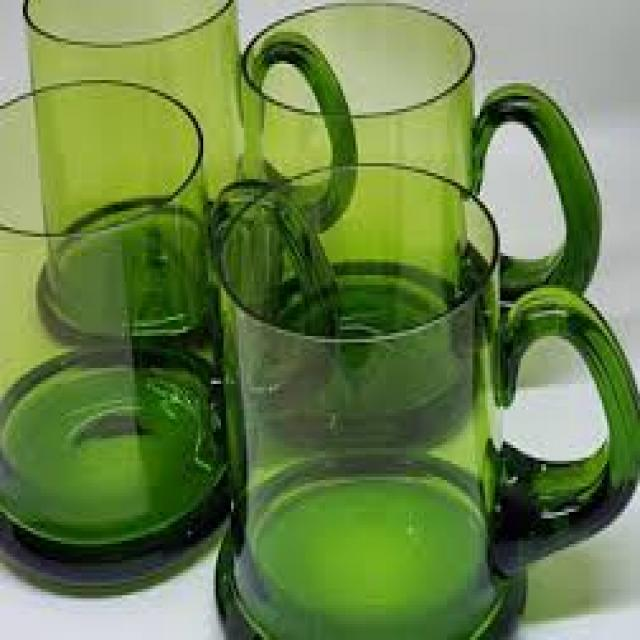Glass-Non-Biodegradable but Recyclable-: (212, 177, 640, 640)
